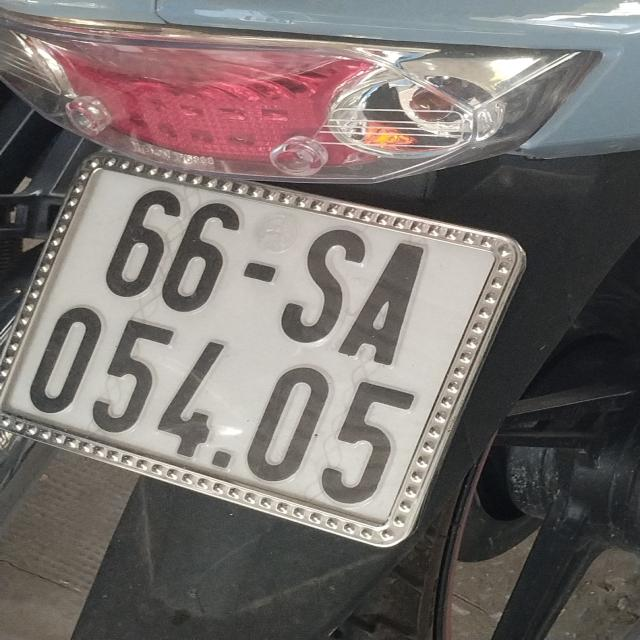0: (237, 366, 334, 484), (28, 304, 108, 415)
4: (160, 340, 224, 459)
5: (323, 380, 417, 513), (93, 316, 174, 439)
6: (154, 196, 241, 320), (106, 187, 182, 306)
A: (339, 237, 428, 366)
S: (276, 228, 368, 346)
